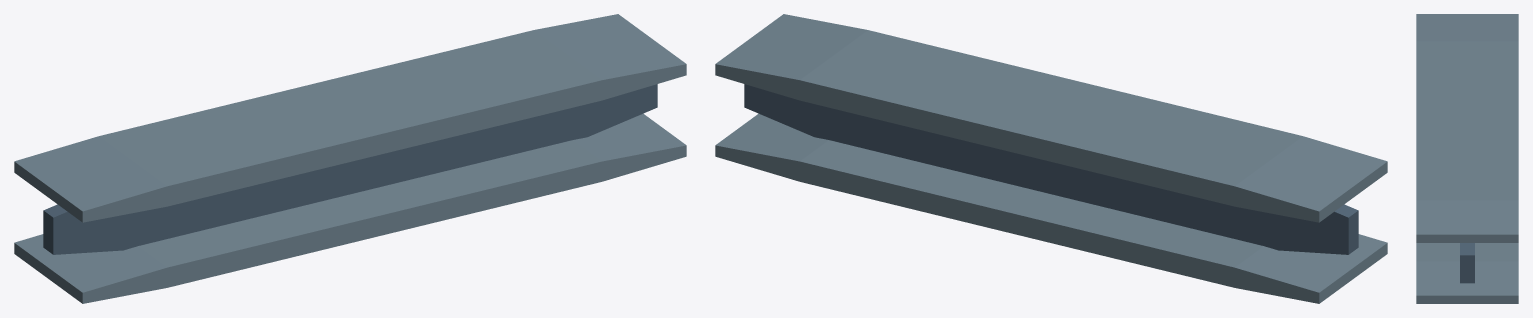
Rendered from BridgeEscapeDebris.obj.
The picture shows the model from 3 angles, left to right: view 1: azimuth 30°, elevation 25°; view 2: azimuth 150°, elevation 25°; view 3: azimuth 270°, elevation 25°; orthographic projection. The views are drawn at different scales.
Parts seen in each view (by area): view 1: flange_top, flange_base, web; view 2: flange_top, flange_base, web; view 3: flange_top, flange_base, web.
Part boxes in pixels (left/top/right/bottom): flange_top: left=14, top=14, right=686, bottom=222; flange_base: left=14, top=113, right=686, bottom=303; web: left=43, top=84, right=657, bottom=254; flange_top: left=715, top=14, right=1387, bottom=222; flange_base: left=715, top=113, right=1387, bottom=303; web: left=744, top=84, right=1358, bottom=254; flange_top: left=1416, top=14, right=1518, bottom=242; flange_base: left=1416, top=243, right=1518, bottom=303; web: left=1460, top=243, right=1474, bottom=283.
Size of the model in its own units: 5.6 by 0.9 by 1.1.
